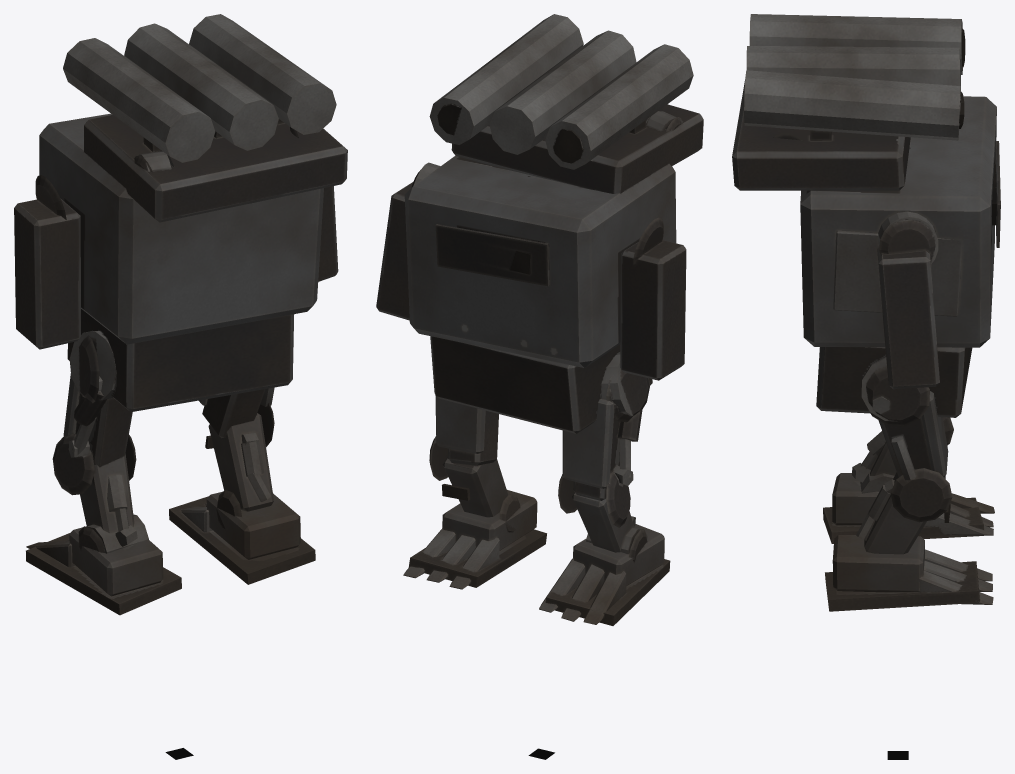
The model's file is chs_needle_wreck.fbx.
The picture shows the model from 3 angles, left to right: view 1: azimuth 30°, elevation 25°; view 2: azimuth 150°, elevation 25°; view 3: azimuth 270°, elevation 25°; orthographic projection. The views are drawn at different scales.
Visible parts, largest first — view 1: torso_bar, launcher_bar, base_bar, thighL_bar, footR_bar, footL_bar, shinR_bar, shinL_bar, thighR_bar; view 2: torso_bar, launcher_bar, base_bar, thighL_bar, footR_bar, footL_bar, thighR_bar, shinR_bar, shinL_bar; view 3: torso_bar, launcher_bar, footR_bar, thighR_bar, base_bar, footL_bar, shinR_bar, shinL_bar.
Part boxes in pixels (x1,y1,x2,y2): torso_bar: (14, 113, 338, 349); launcher_bar: (63, 14, 347, 222); base_bar: (67, 309, 294, 411); thighL_bar: (52, 330, 136, 495); footR_bar: (169, 491, 315, 584); footL_bar: (26, 526, 181, 615); shinR_bar: (205, 413, 273, 528); shinL_bar: (78, 453, 148, 553); thighR_bar: (199, 387, 274, 447); torso_bar: (376, 111, 686, 380); launcher_bar: (429, 14, 703, 193); base_bar: (430, 336, 652, 433); thighL_bar: (558, 353, 650, 527); footR_bar: (403, 490, 546, 589); footL_bar: (539, 524, 670, 625); thighR_bar: (429, 395, 498, 480); shinR_bar: (442, 456, 520, 532); shinL_bar: (572, 492, 647, 561); torso_bar: (773, 96, 1000, 389); launcher_bar: (732, 14, 965, 190); footR_bar: (825, 535, 993, 611); thighR_bar: (861, 357, 952, 522); base_bar: (816, 347, 972, 417); footL_bar: (823, 473, 994, 543); shinR_bar: (856, 472, 950, 554); shinL_bar: (852, 431, 896, 493).
Bounding box in the file's own units: 334 × 744 × 256.
Materials: 2 (2 with a texture image).
